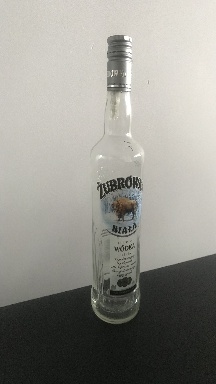butelka: (88, 31, 145, 326)
